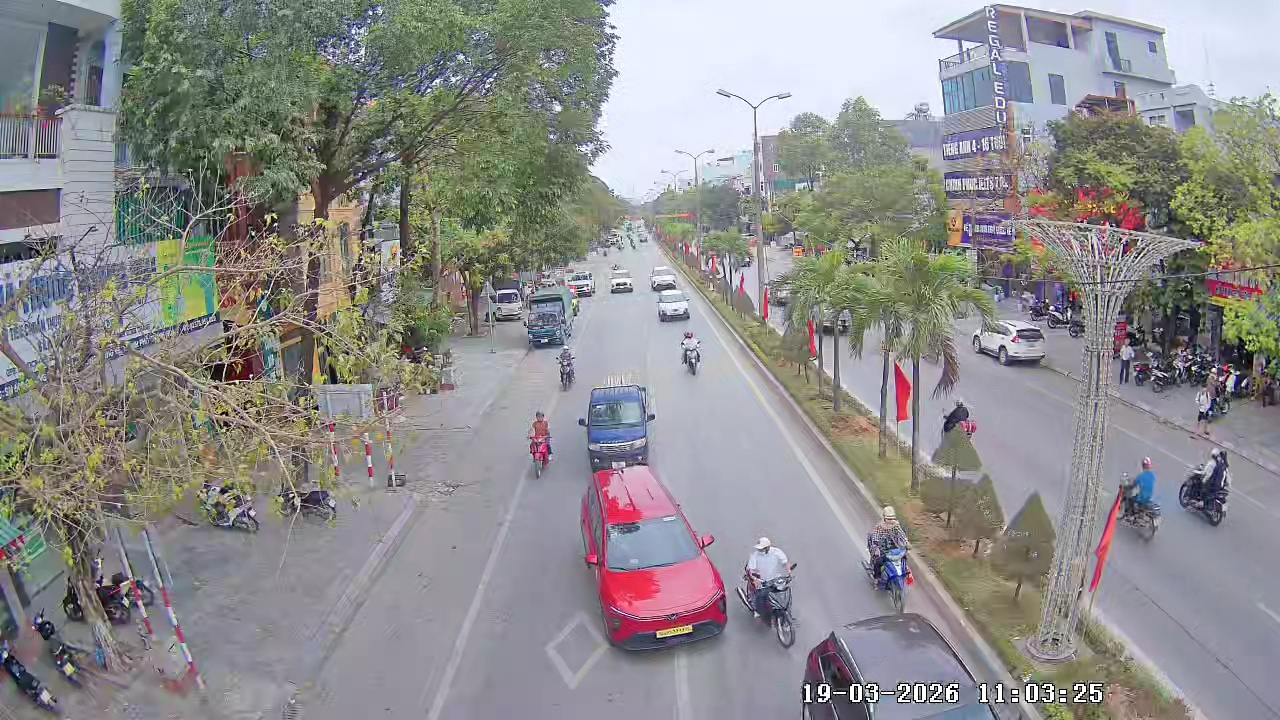car: (582, 464, 729, 652), (797, 612, 1008, 719), (577, 379, 657, 470), (1001, 323, 1048, 367), (972, 324, 1014, 364), (656, 289, 692, 323), (568, 266, 595, 297), (650, 266, 677, 294), (610, 268, 634, 294)
motorbike: (736, 535, 800, 647), (863, 506, 914, 609), (1112, 457, 1164, 544), (1187, 451, 1231, 528), (525, 408, 554, 479), (940, 397, 976, 442), (298, 486, 338, 525), (680, 329, 702, 376), (555, 344, 577, 391)
truck: (578, 379, 657, 470), (523, 310, 566, 348)
